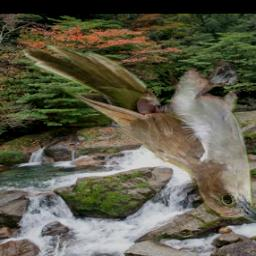Cuckoo: (20, 45, 256, 227)
